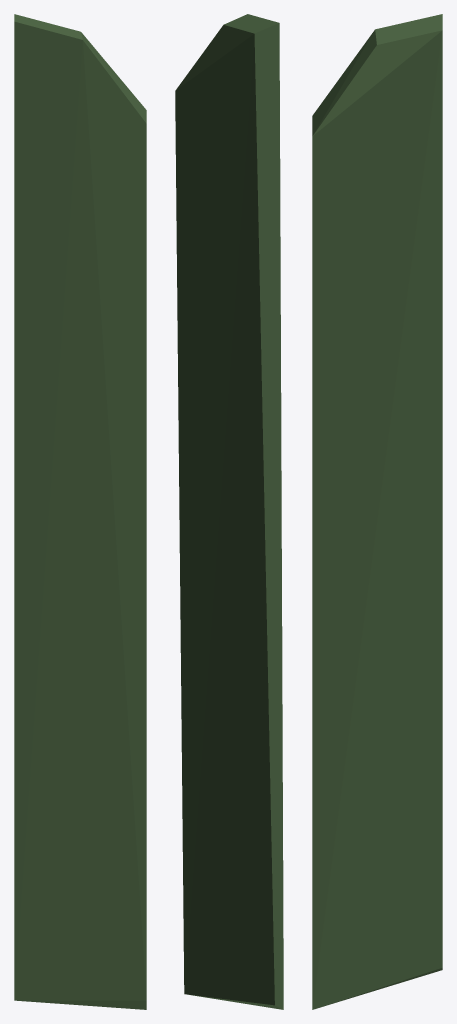
3 renders of one model, left to right at view 1: azimuth 90°, elevation 25°; view 2: azimuth 210°, elevation 25°; view 3: azimuth 270°, elevation 25°, orthographic. The views are drawn at different scales.
Size of the model in its own units: 1.64 by 38.16 by 4.58.
